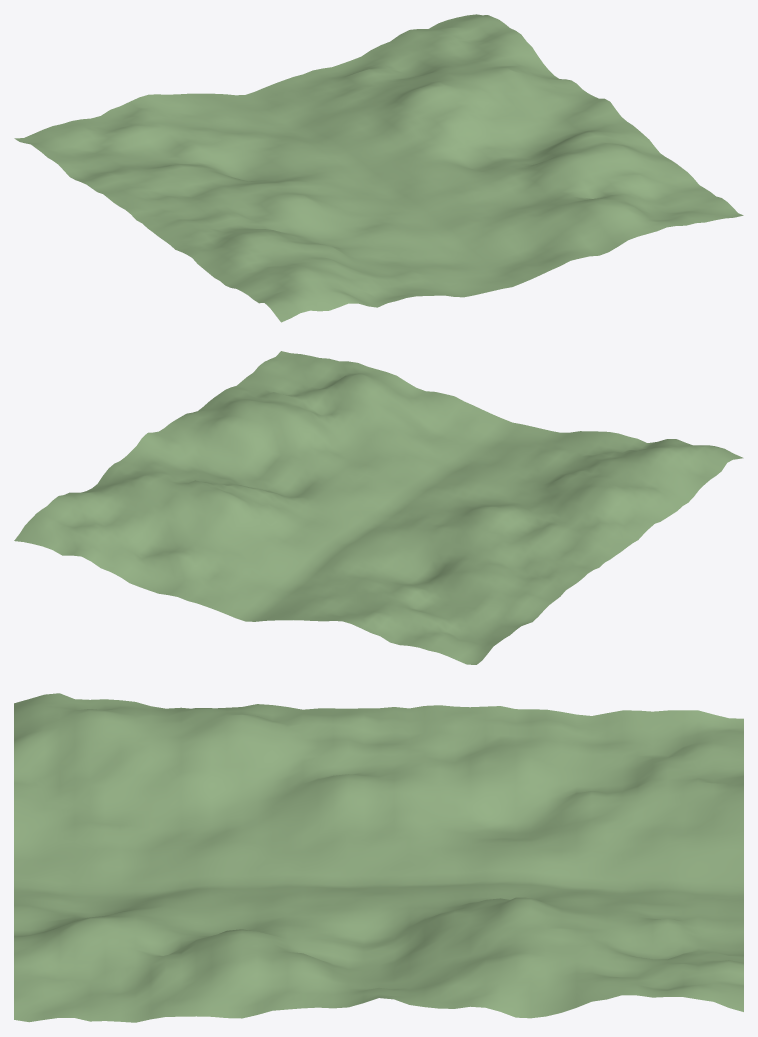
File: procedural_terrain.glb
3 views of the same model, one above another, from view 1: azimuth 30°, elevation 25°; view 2: azimuth 150°, elevation 25°; view 3: azimuth 270°, elevation 25° (orthographic). The views are drawn at different scales.
Visible parts, largest first — view 1: ProceduralTerrain; view 2: ProceduralTerrain; view 3: ProceduralTerrain.
Part boxes in pixels (<box>): ProceduralTerrain: <box>14,14,743,322</box>; ProceduralTerrain: <box>14,351,743,664</box>; ProceduralTerrain: <box>14,693,743,1022</box>.
Size of the model in its own units: 64 by 5.63 by 64.
